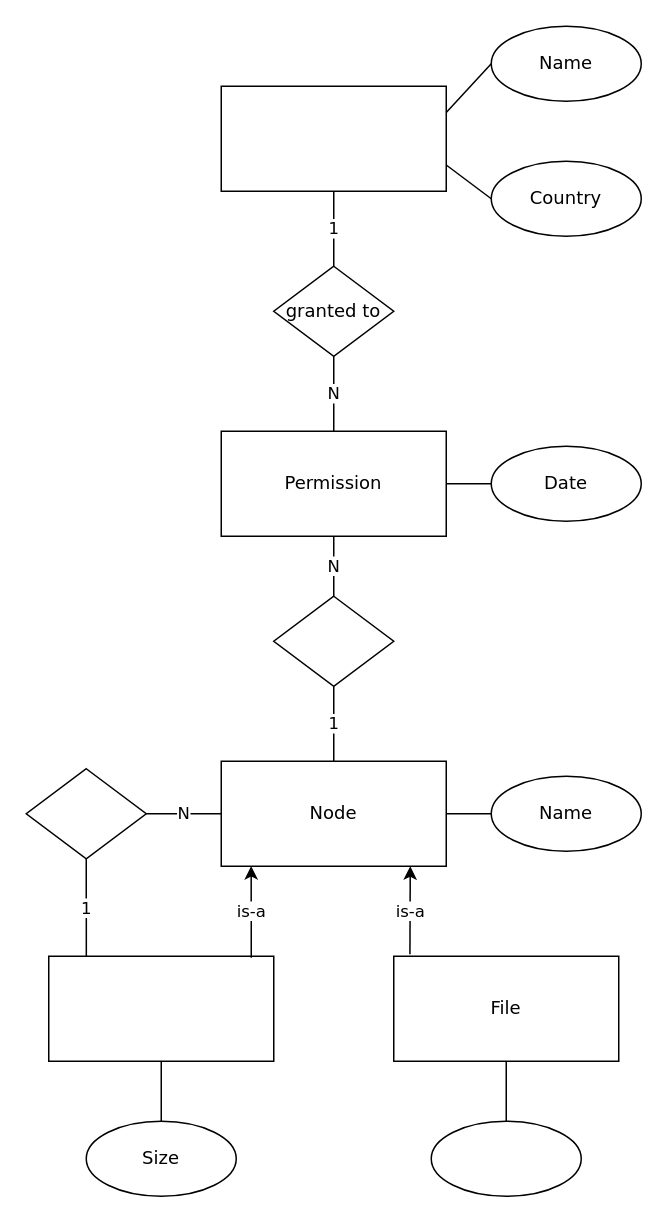
Image size: 668x1223. Some labels were removed from this diagram. Each missing label, with the centre of its shape:
contains: the point at 85,813
File Type: the point at 505,1158
Folder: the point at 160,1008
for: the point at 333,640
User: the point at 333,138
